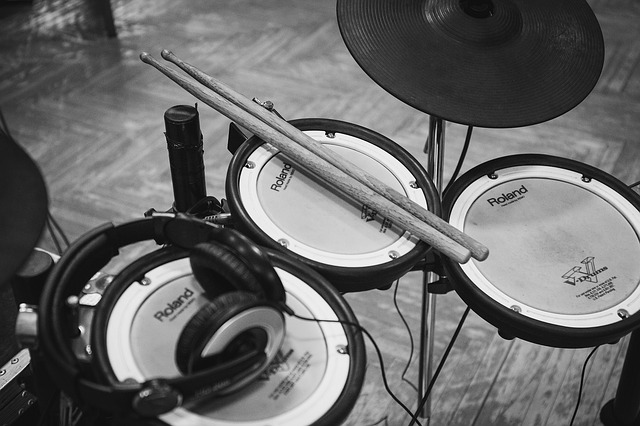headphones: (36, 208, 287, 418)
